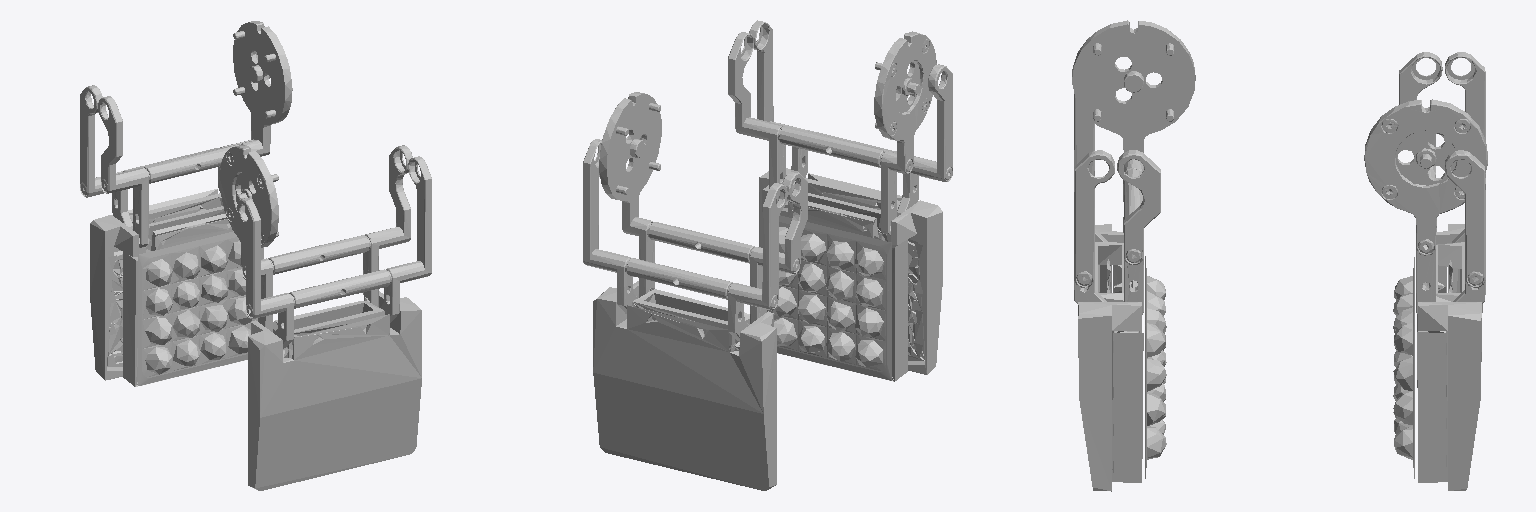
URDF robot description (h5):
<robot name="h5">
    <material name="default">
        <color rgba="0.8 0.8 0.8 1.0"/>
    </material>

    <link name="base_link">
        <inertial>
            <mass value="0.32908300000000001"/>
            <origin rpy="0 0 0" xyz="-0.000001 0.000038 -0.032103"/>
            <inertia ixx="0.00041124" iyy="0.000150111" izz="0.00044493100000000003" ixy="5.7588800000000003e-06" ixz="0" iyz="0"/>
        </inertial>

        <collision name="h5_collision">
            <origin rpy="0.000000 -0.000000 0.000000" xyz="0.000000 0.000000 0.000000"/>
            <geometry>
                <mesh filename="package://h5_hand_description/meshes/base.stl" scale="1 1 1"/>
            </geometry>
        </collision>
 
        <visual name="h5_visual_1">
            <origin rpy="0.000000 -0.000000 0.000000" xyz="0.000000 0.000000 0.000000"/>
            <geometry>
                <mesh filename="package://h5_hand_description/meshes/base.stl" scale="1 1 1"/>
            </geometry>
            <material name="default" />
        </visual>

    </link>
    <joint name="left_link_joint" type="revolute">
        <parent link="base_link"/>
        <child link="left_link_link"/>
        <axis xyz="1.000000 0.000000 0.000000"/>
        <limit effort="10000" velocity="10000" lower="-1.3788101090755203" upper="0.87266462599716477"/>
        <origin rpy="0 -0 0" xyz="-0.021500 -0.035500 -0.040500"/>
    </joint>
    <link name="left_link_link">
        <inertial>
            <mass value="0.016848999999999999"/>
            <origin rpy="0 0 0" xyz="0.016570 -0.004451 -0.017355"/>
            <inertia ixx="4.3095500000000001e-06" iyy="1.0579499999999999e-05" izz="8.1009200000000004e-06" ixy="0" ixz="1.79745e-06" iyz="0"/>
        </inertial>

        <collision name="h5_collision_1">
            <origin rpy="0.000000 -0.000000 0.000000" xyz="0.000000 0.000000 0.000000"/>
            <geometry>
                <mesh filename="package://h5_hand_description/meshes/left_link.stl" scale="1 1 1"/>
            </geometry>
        </collision>

        <visual name="h5_visual_2">
            <origin rpy="0.000000 -0.000000 0.000000" xyz="0.000000 0.000000 0.000000"/>
            <geometry>
                <mesh filename="package://h5_hand_description/meshes/left_link.stl" scale="1 1 1"/>
            </geometry>
            <material name="default" />
        </visual>

    </link>
    <joint name="left_tip_joint" type="revolute">
        <parent link="left_link_link"/>
        <child link="left_tip_link"/>
        <axis xyz="1.000000 0.000000 0.000000"/>
        <limit effort="10000" velocity="10000" lower="-0.87266462599716477" upper="1.3788101090755203"/>
        <origin rpy="0 -0 0" xyz="0.021500 0.000000 -0.043000"/>
        <mimic joint="left_link_joint" multiplier="-1" offset="0"/>
    </joint>
    <link name="left_tip_link">
        <inertial>
            <mass value="0.046234999999999998"/>
            <origin rpy="0 0 0" xyz="0.000003 -0.038401 -0.083889"/>
            <inertia ixx="9.8584099999999993e-06" iyy="1.7064199999999998e-05" izz="1.00253e-05" ixy="0" ixz="0" iyz="0"/>
        </inertial>

        <collision name="h5_collision">
            <origin rpy="0.000000 -0.000000 0.000000" xyz="0.000000 0.000000 0.000000"/>
            <geometry>
                <mesh filename="package://h5_hand_description/meshes/left_tip.stl" scale="1 1 1"/>
            </geometry>
        </collision>

        <visual name="h5_visual_2">
            <origin rpy="0.000000 -0.000000 0.000000" xyz="0.000000 0.000000 0.000000"/>
            <geometry>
                <mesh filename="package://h5_hand_description/meshes/left_tip.stl" scale="1 1 1"/>
            </geometry>
            <material name="default" />
        </visual>

    </link>
    <joint name="right_link_joint" type="revolute">
        <parent link="base_link"/>
        <child link="right_link_link"/>
        <axis xyz="1.000000 0.000000 0.000000"/>
        <limit effort="10000" velocity="10000" lower="-0.87266462599716477" upper="1.3788101090755203"/>
        <origin rpy="0 -0 0" xyz="0.021500 0.035500 -0.040500"/>
    </joint>
    <link name="right_link_link">
        <inertial>
            <mass value="0.016848999999999999"/>
            <origin rpy="0 0 0" xyz="-0.016570 0.004451 -0.017355"/>
            <inertia ixx="4.3095500000000001e-06" iyy="1.0579499999999999e-05" izz="8.1009200000000004e-06" ixy="0" ixz="0" iyz="0"/>
        </inertial>

        <collision name="h5_collision_1">
            <origin rpy="0.000000 -0.000000 3.14159" xyz="0.000000 0.000000 0.000000"/>
            <geometry>
                <mesh filename="package://h5_hand_description/meshes/left_link.stl" scale="1 1 1"/>
            </geometry>
            <material name="default" />
        </collision>

        <visual name="h5_visual_2">
            <origin rpy="0.000000 -0.000000 3.14159" xyz="0.000000 0.000000 0.000000"/>
            <geometry>
                <mesh filename="package://h5_hand_description/meshes/left_link.stl" scale="1 1 1"/>
            </geometry>
            <material name="default" />
        </visual>

    </link>
    <joint name="right_tip_joint" type="revolute">
        <parent link="right_link_link"/>
        <child link="right_tip_link"/>
        <axis xyz="1.000000 0.000000 0.000000"/>
        <limit effort="10000" velocity="10000" lower="-1.3788101090755203" upper="0.87266462599716477"/>
        <origin rpy="0 -0 0" xyz="-0.021500 0.000000 -0.043000"/>
        <mimic joint="right_link_joint" multiplier="-1" offset="0"/>
    </joint>
    <link name="right_tip_link">
        <inertial>
            <mass value="0.046234999999999998"/>
            <origin rpy="0 0 0" xyz="-0.000003 0.038401 -0.083889"/>
            <inertia ixx="9.8584099999999993e-06" iyy="1.7064199999999998e-05" izz="1.00253e-05" ixy="0" ixz="0" iyz="0"/>
        </inertial>

        <collision name="h5_collision">
            <origin rpy="0.000000 -0.000000 3.14159" xyz="0.000000 0.000000 0.000000"/>
            <geometry>
                <mesh filename="package://h5_hand_description/meshes/left_tip.stl" scale="1 1 1"/>
            </geometry>
        </collision>

        <visual name="h5_visual_2">
            <origin rpy="0.000000 -0.000000 3.14159" xyz="0.000000 0.000000 0.000000"/>
            <geometry>
                <mesh filename="package://h5_hand_description/meshes/left_tip.stl" scale="1 1 1"/>
            </geometry>
            <material name="default" />
        </visual>

    </link>
</robot>

--- What the picture shows (computed from the rendered views, not written in the file) ---
The picture shows the robot from 3 angles, left to right: view 1: azimuth 30°, elevation 25°; view 2: azimuth 150°, elevation 25°; view 3: azimuth 270°, elevation 25°; orthographic projection.
Robot: h5 — 5 links, 4 joints (4 revolute); root link base_link; default pose: every joint at zero.
Visible links, largest first — view 1: left_tip_link, right_tip_link, left_link_link, right_link_link; view 2: right_tip_link, left_tip_link, right_link_link, left_link_link; view 3: left_link_link, right_link_link, left_tip_link, right_tip_link.
Boxes of the visible links, <box> form: left_tip_link: <box>248,291,421,490</box>; right_tip_link: <box>90,189,263,386</box>; left_link_link: <box>219,145,431,348</box>; right_link_link: <box>80,21,292,247</box>; right_tip_link: <box>593,281,776,490</box>; left_tip_link: <box>759,168,942,381</box>; right_link_link: <box>583,92,807,341</box>; left_link_link: <box>728,20,952,235</box>; left_link_link: <box>1072,20,1195,314</box>; right_link_link: <box>1364,52,1487,314</box>; left_tip_link: <box>1078,224,1166,491</box>; right_tip_link: <box>1393,224,1482,490</box>.
Bounding box of the posed robot: 0.059 × 0.1011 × 0.1034 m (x, y, z).
Meshes: 3 distinct files referenced, 4 mesh visuals loaded (2 binary STL); not drawn: 1 (reference not matched to a file when rendering).